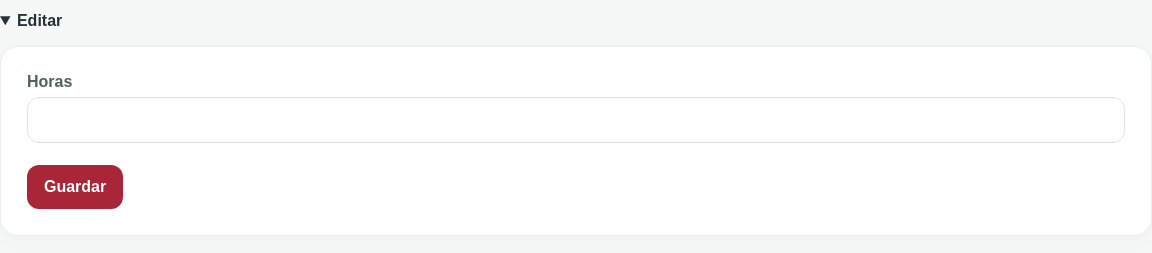
Test case: formularios y acciones compartidos › convierte números, avisa y cierra details solo después del éxito
Type "2" into the number field labelled "Horas".
click(576, 120); type("2")  # box [27,97,1125,143]
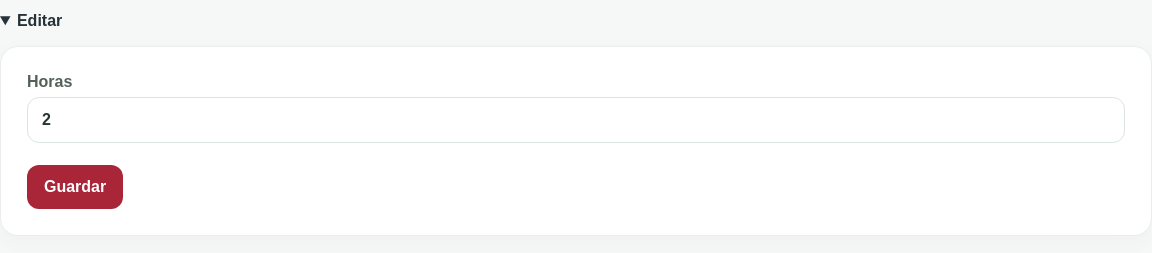
Click the button "Guardar".
click(75, 187)  # box [27,165,123,209]
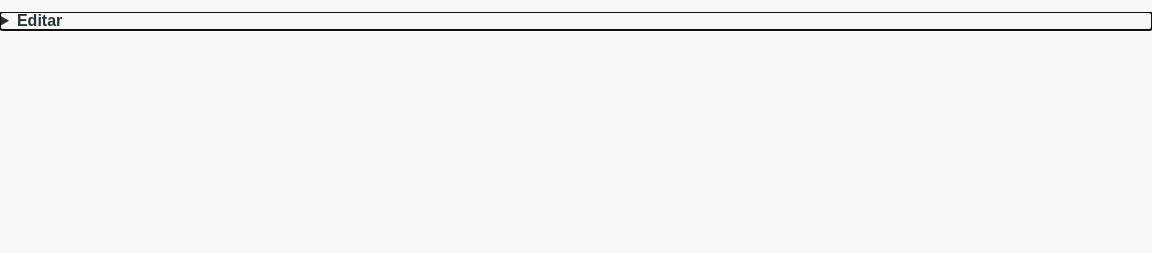
Result: the text "Editar" does not have attribute open at [17,12,62,29]
